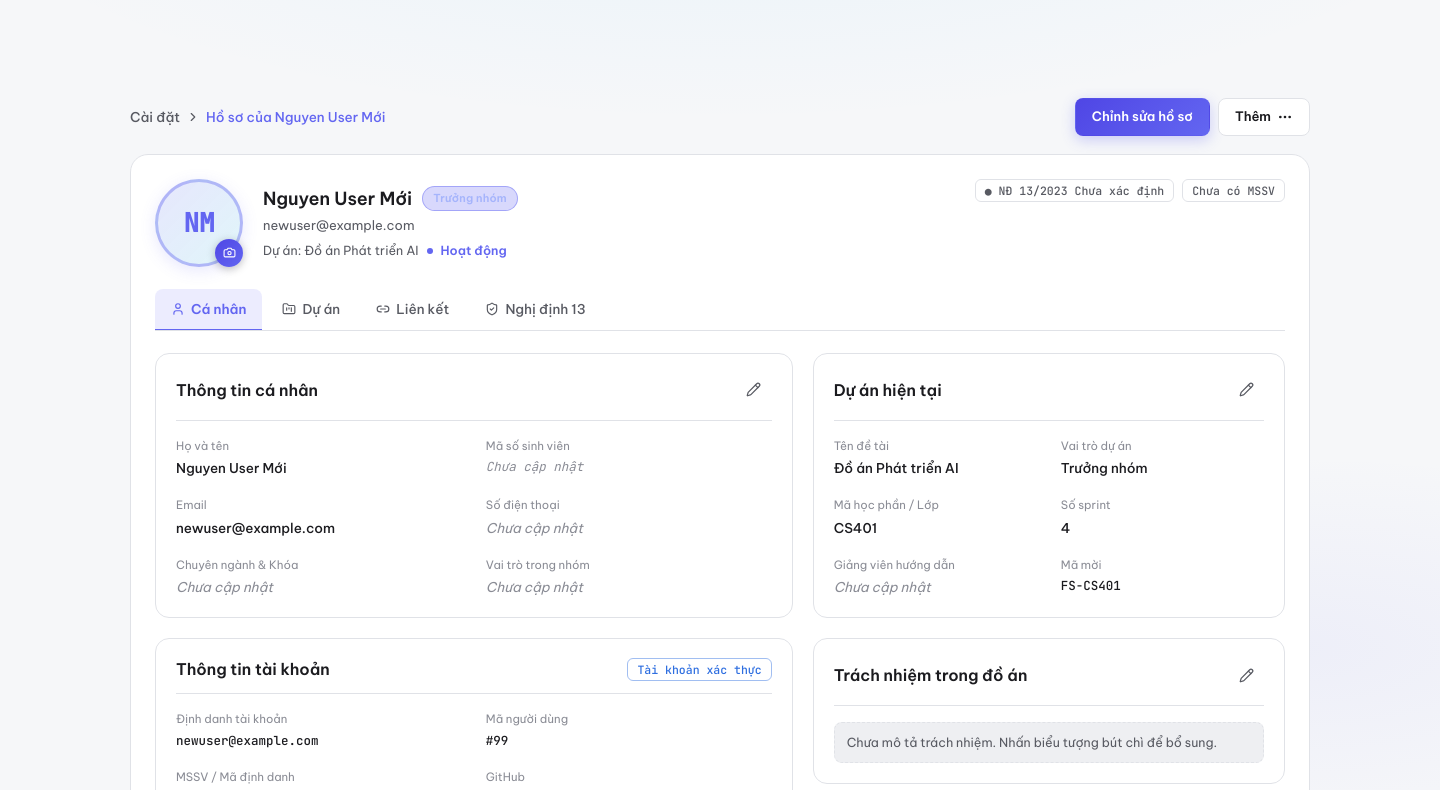
ProfileSettingsPage Component Tests › displays active project information when team exists and updates team on save
The image size is (1440, 790).
Click the button named "Chỉnh sửa dự án". click: (1246, 390)
box: left=1228, top=372, right=1264, bottom=408
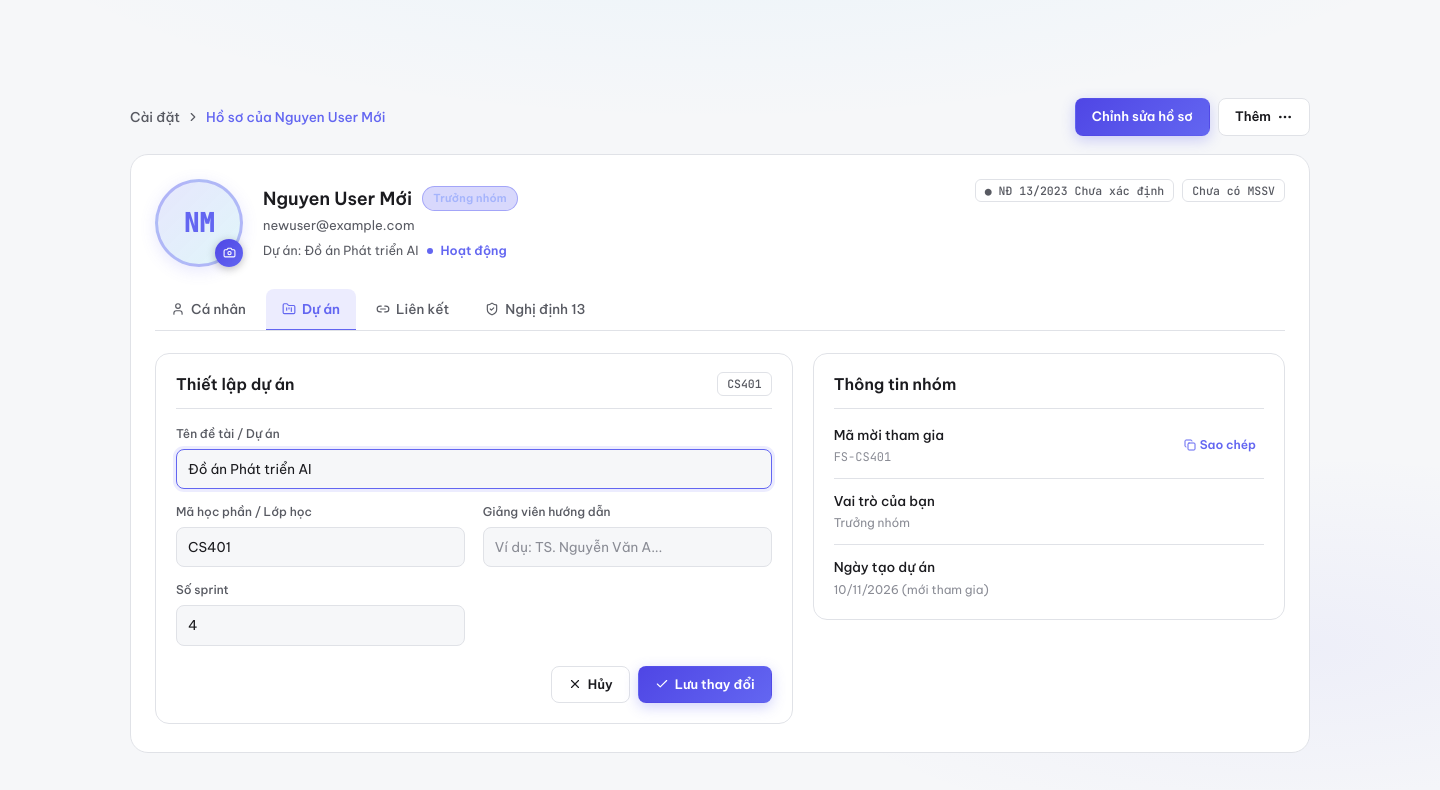
Replace the text in the field showing "Đồ án Phát triển AI" with "Đồ án Phát triển AI Đổi Tên". click: (474, 469)
box: left=176, top=449, right=772, bottom=489
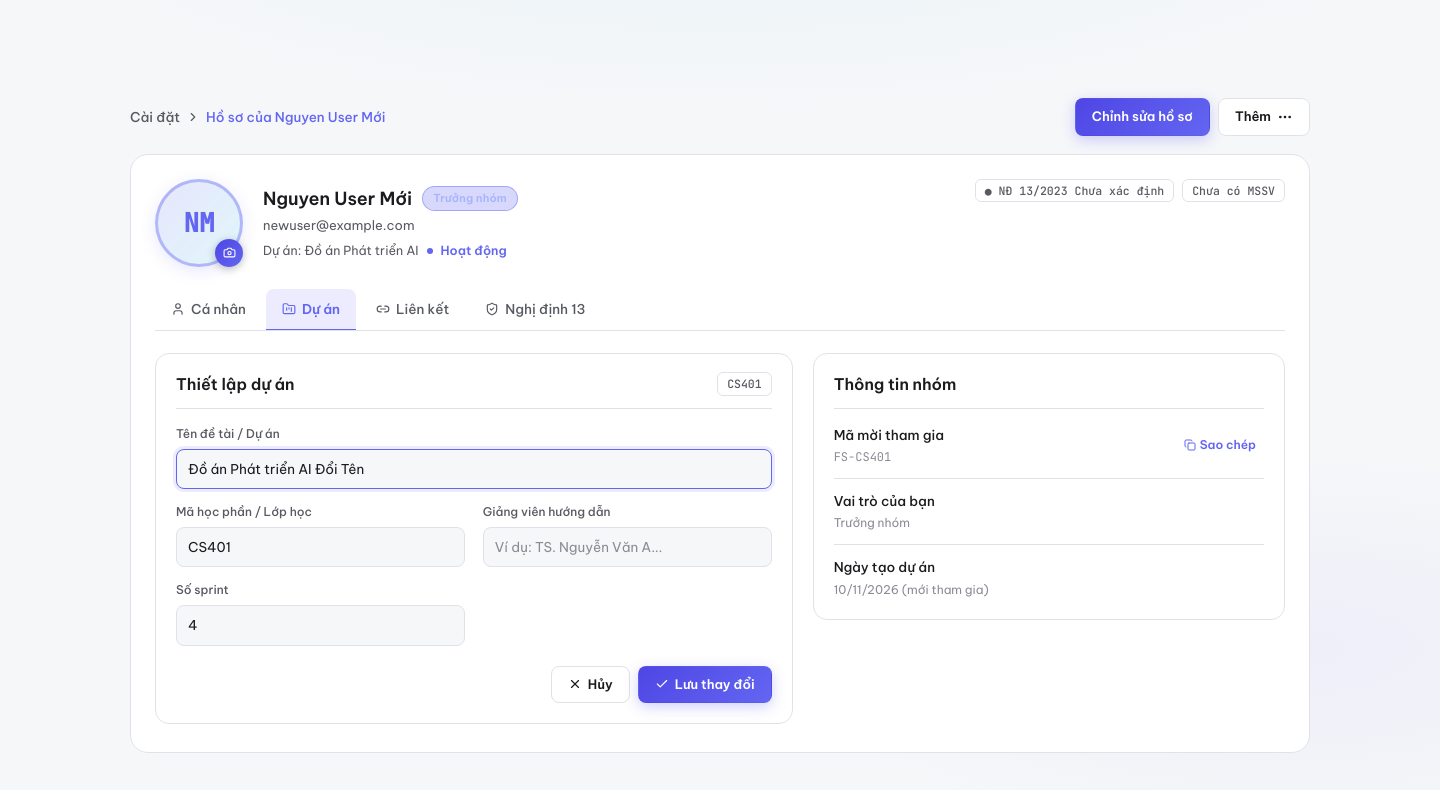
Type "TS. Trần B" into the field with placeholder "Ví dụ: TS. Nguyễn Văn A...". click: (627, 547)
box: left=483, top=527, right=772, bottom=567
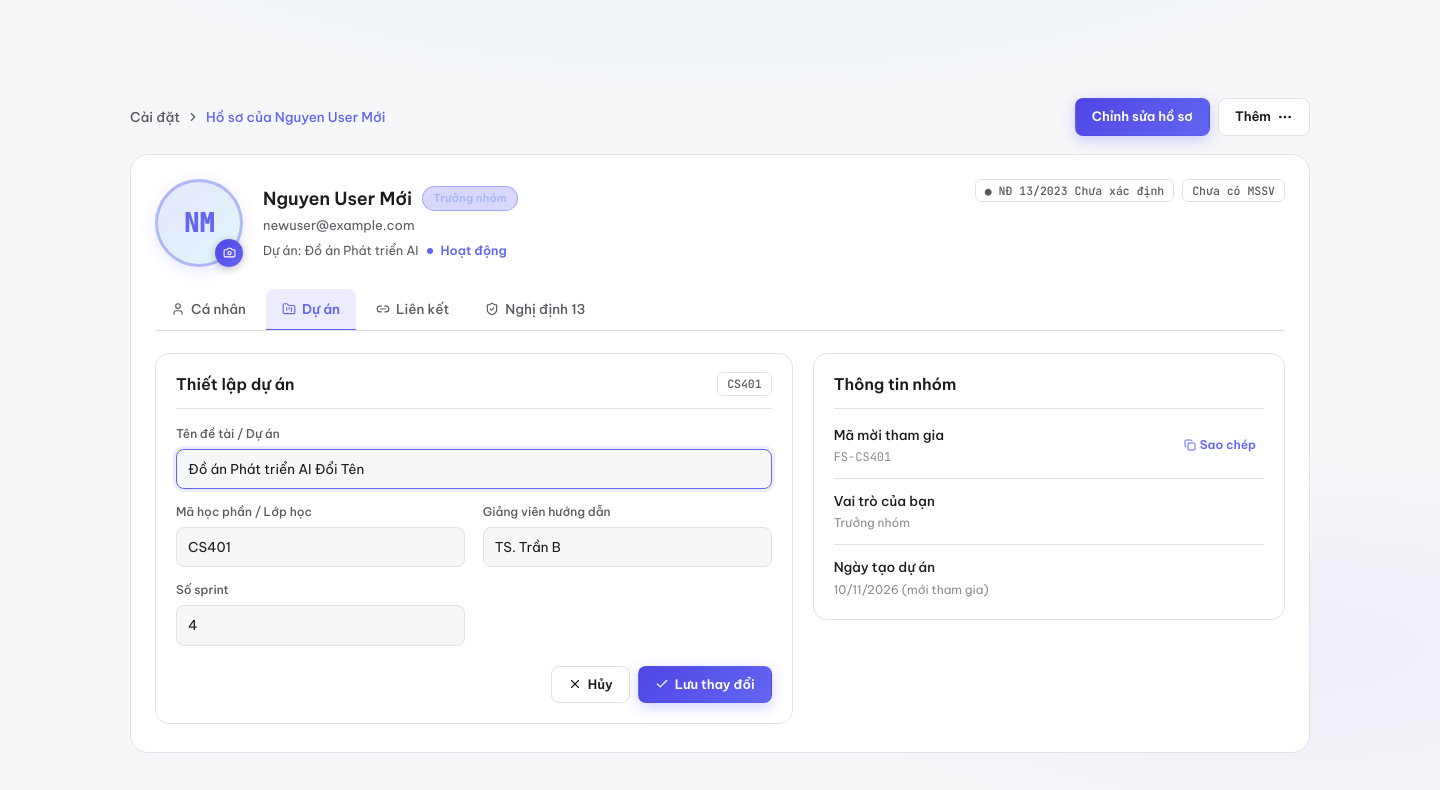
Click the button "Lưu thay đổi". click: (705, 684)
box: left=638, top=666, right=772, bottom=703
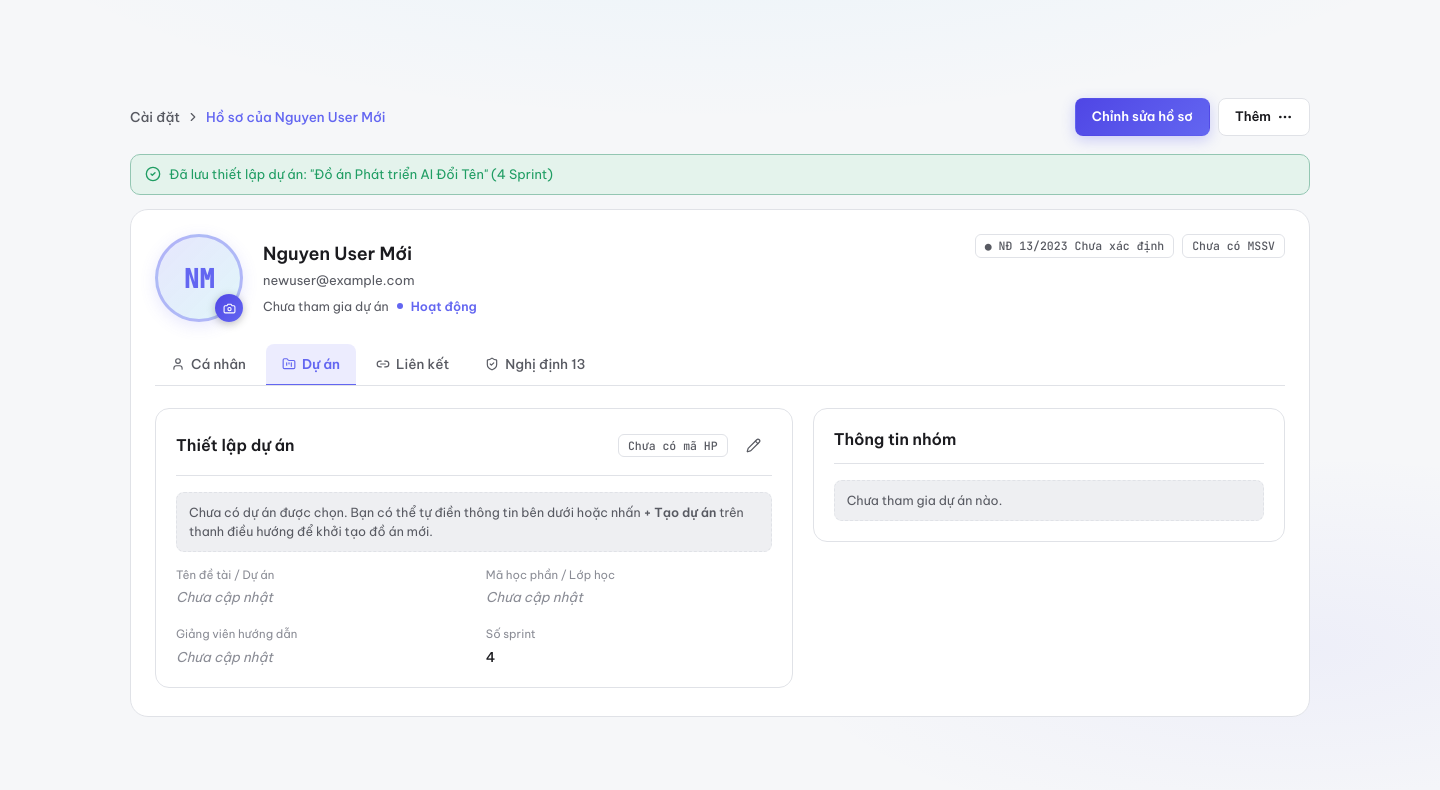
Result: the text "Đã lưu thiết lập dự án" is shown at left=169, top=166, right=553, bottom=182
